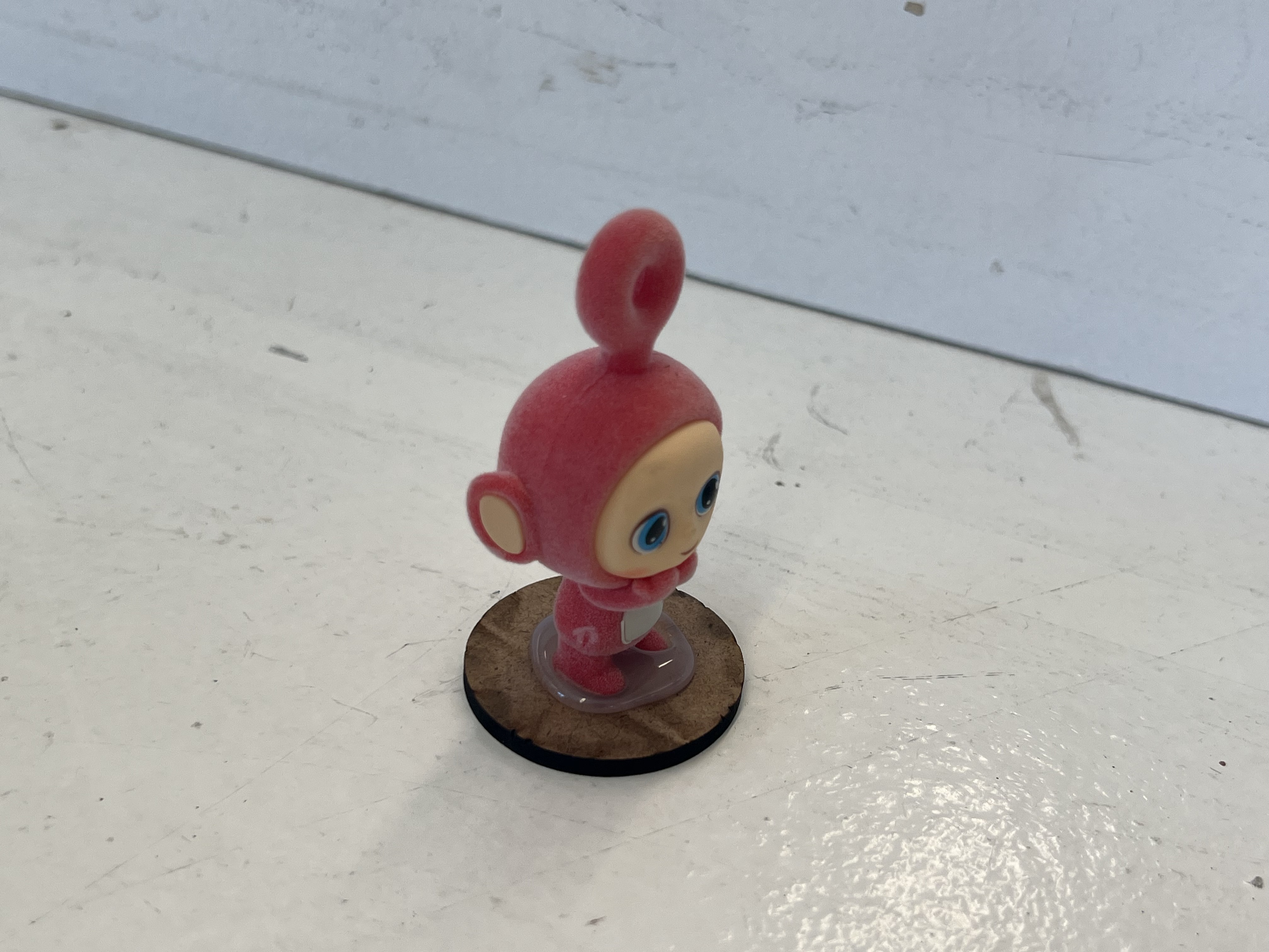teletubby: (466, 209, 723, 695)
